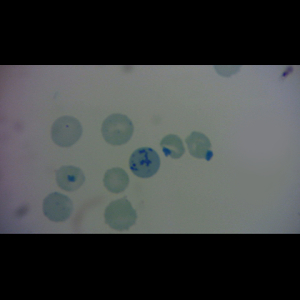aggregate reticulocyte: (128, 146, 162, 180)
erythrocyte: (102, 195, 139, 231), (49, 115, 84, 148), (185, 129, 214, 162), (53, 164, 86, 192), (102, 166, 131, 195), (158, 133, 187, 161)
punctate reticulocyte: (99, 113, 135, 147), (41, 192, 75, 223)
